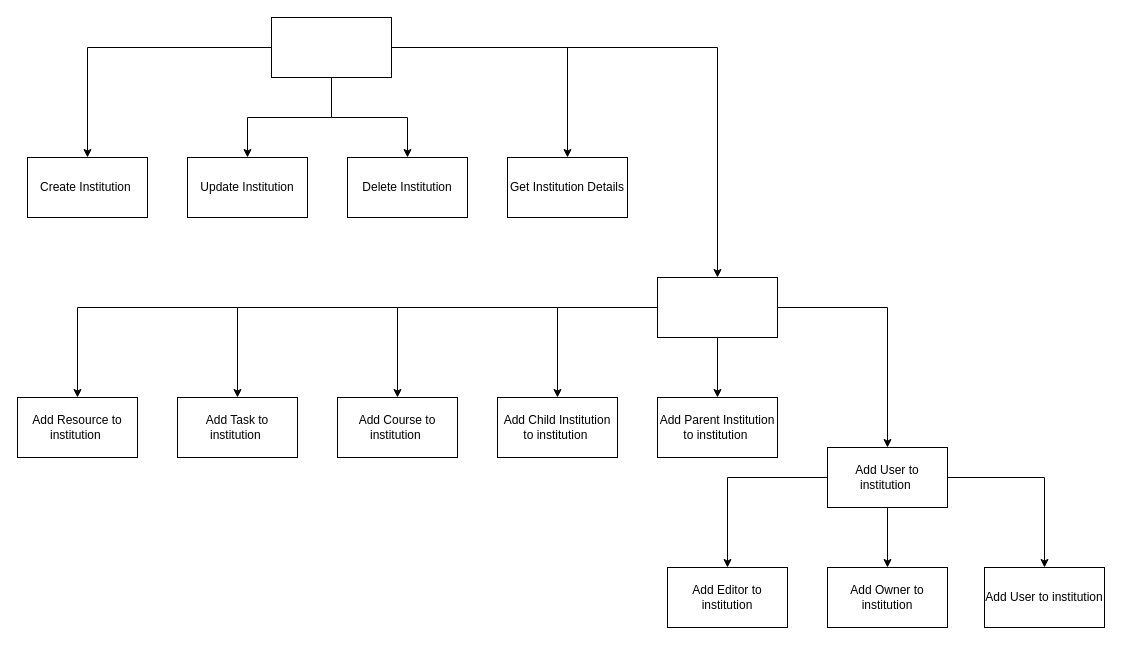
Image size: 1122x645. Some labels were removed from this diagram. The shapes that lost their labels are listed below. From the top down, each one's box as (x1, y1, x2, y2) in pixels, then its label:
(270, 16, 392, 78): Institution
(656, 276, 778, 338): Add entity to Instituion
